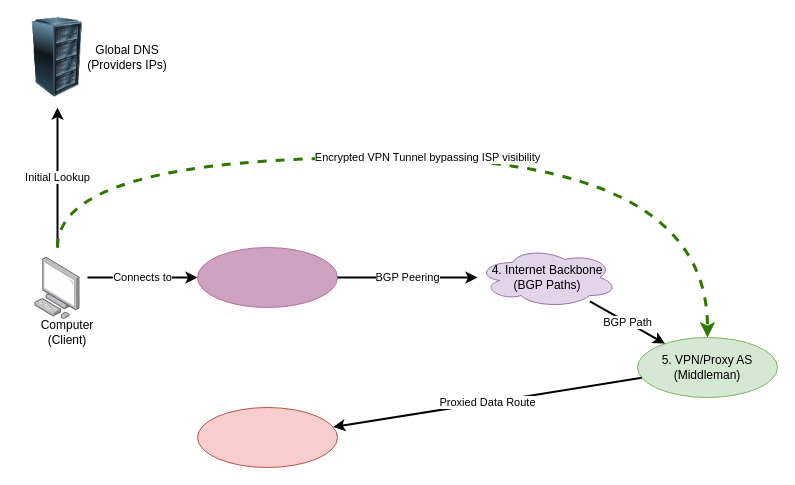
Image size: 795x485. Some labels were removed from this diagram. Each missing label, with the centre of its shape:
3. Home ISP (AS 1) (Physical Routing): the point at 267,277
6. Target AS (Web Service): the point at 267,437
